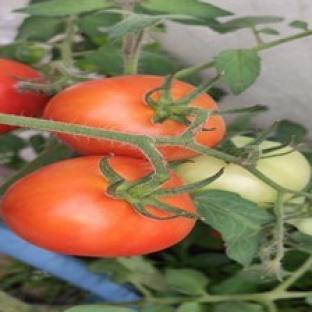Tomato: (2, 156, 194, 256), (44, 76, 186, 136), (177, 155, 277, 204), (0, 59, 48, 116), (289, 218, 311, 235)
